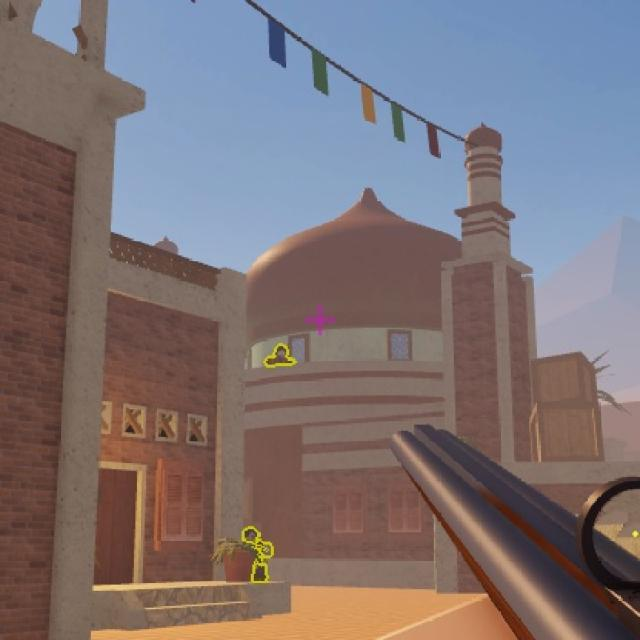player: (268, 342, 295, 370)
